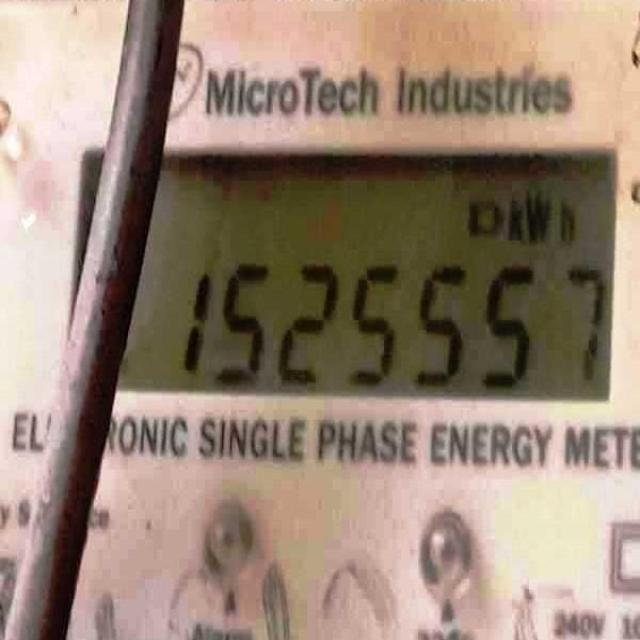1: (175, 264, 213, 385)
2: (270, 247, 338, 391)
5: (474, 254, 546, 396), (401, 254, 473, 391), (344, 257, 403, 390), (213, 258, 273, 387)
7: (548, 256, 610, 394)
Digital meter: (158, 164, 619, 401)
